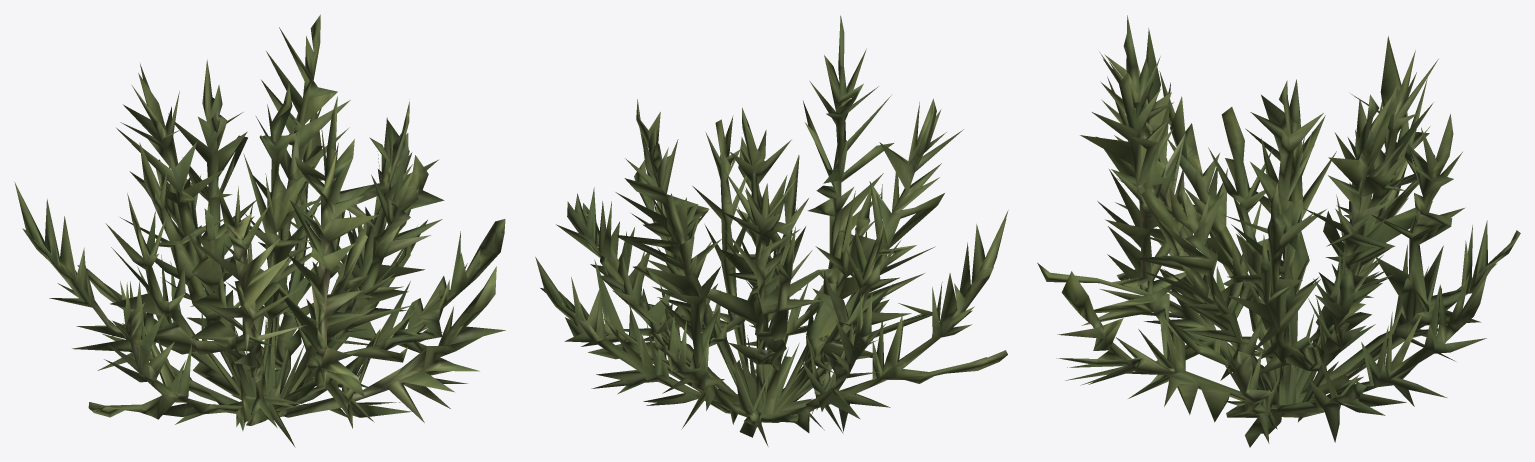
File: gnd_desert_sagebrush.fbx
The picture shows the model from 3 angles, left to right: view 1: azimuth 30°, elevation 25°; view 2: azimuth 150°, elevation 25°; view 3: azimuth 270°, elevation 25°; orthographic projection. The views are drawn at different scales.
Parts seen in each view (by area): view 1: gnd_desert_sagebrush_LOD0; view 2: gnd_desert_sagebrush_LOD0; view 3: gnd_desert_sagebrush_LOD0.
Boxes of the visible parts, left/top/right/bottom form: gnd_desert_sagebrush_LOD0: left=14, top=14, right=505, bottom=447; gnd_desert_sagebrush_LOD0: left=535, top=15, right=1008, bottom=446; gnd_desert_sagebrush_LOD0: left=1037, top=15, right=1520, bottom=447.
Size of what is drawn, in the model's own units: 0.8903 by 0.7359 by 0.8248.
